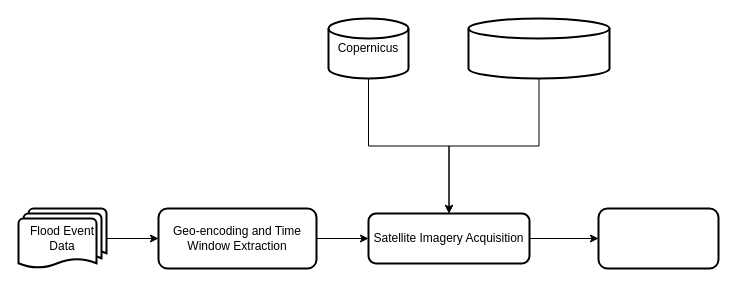
Image size: 736x286. Some labels were removed from this diagram. Each missing label, with the centre of its shape:
"Google Earth Engine" belongs at (x=538, y=48).
"Validation" belongs at (x=658, y=238).
